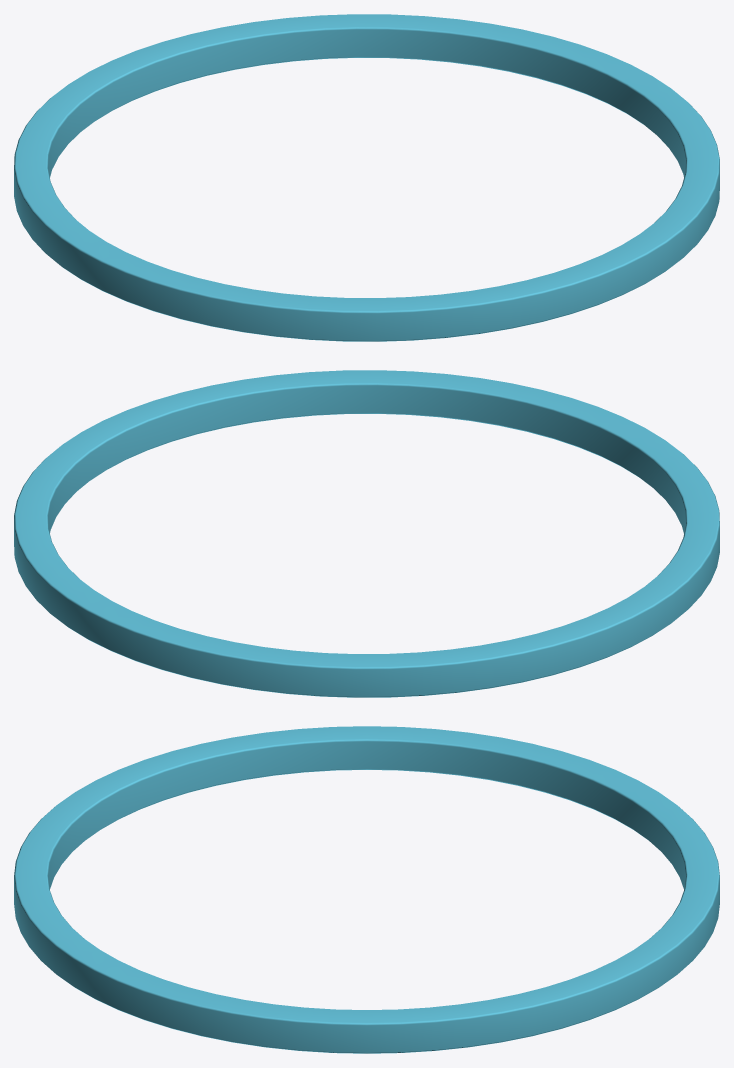
3 views of the same model, one above another, from view 1: azimuth 30°, elevation 25°; view 2: azimuth 150°, elevation 25°; view 3: azimuth 270°, elevation 25° (orthographic).
Visible parts, largest first — view 1: seal_body; view 2: seal_body; view 3: seal_body.
Boxes of the visible parts, <box> form: seal_body: <box>14,14,719,341</box>; seal_body: <box>14,370,719,697</box>; seal_body: <box>14,726,719,1053</box>.
Size of the model in its own units: 0.0984 by 0.00476 by 0.0984.
